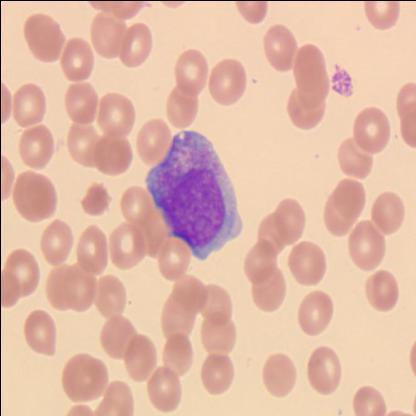Promyelocyte: (146, 131, 244, 262)
